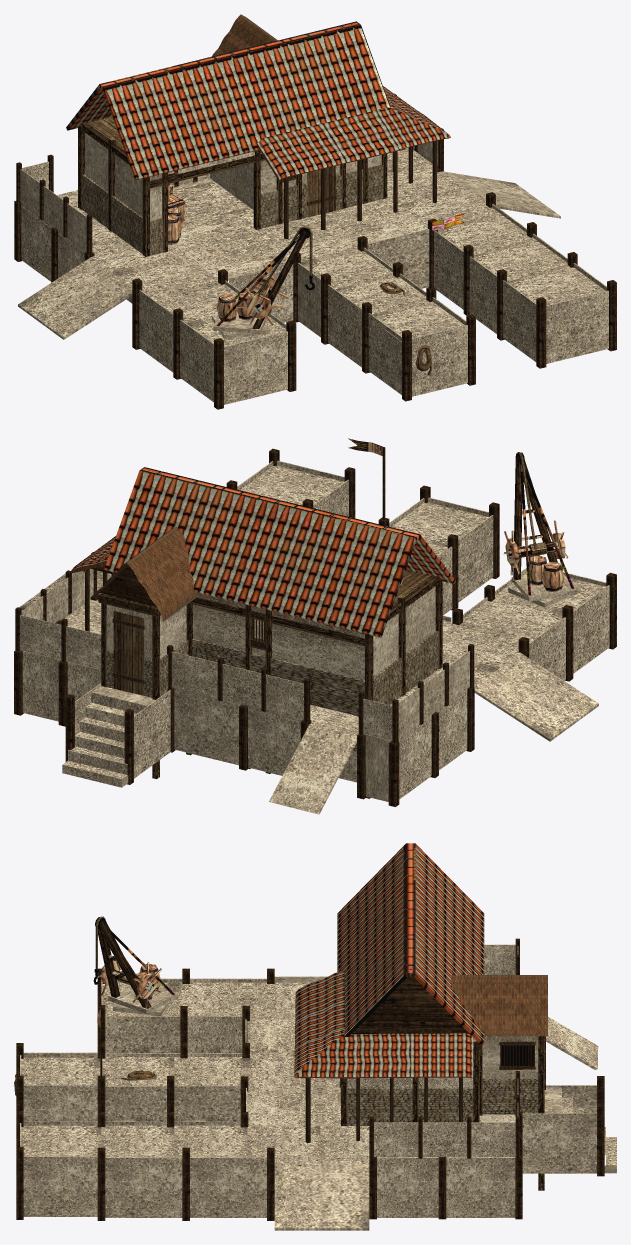
Rendered from dock.dae.
3 renders of one model, top to bottom at view 1: azimuth 30°, elevation 25°; view 2: azimuth 150°, elevation 25°; view 3: azimuth 270°, elevation 25°, orthographic. The views are drawn at different scales.
Visible parts, largest first — view 1: dock; view 2: dock; view 3: dock.
Part boxes in pixels (box(x1,y1,x2,y2)): dock: box(14, 14, 616, 409); dock: box(14, 438, 616, 814); dock: box(14, 843, 616, 1230).
Bounding box in the file's own units: 36.74 × 37.18 × 15.82.
